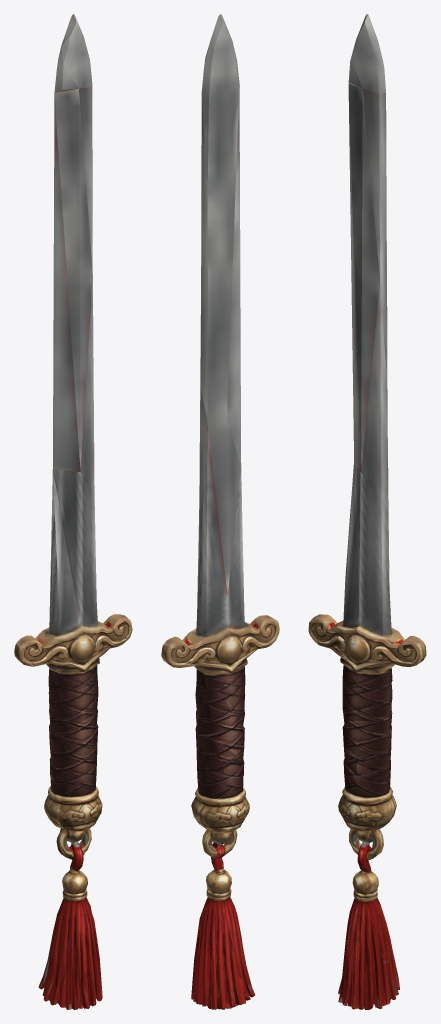
The model's file is sword_1.glb.
The picture shows the model from 3 angles, left to right: view 1: azimuth 30°, elevation 25°; view 2: azimuth 210°, elevation 25°; view 3: azimuth 330°, elevation 25°; orthographic projection.
Parts seen in each view (by area): view 1: output_unwrapped; view 2: output_unwrapped; view 3: output_unwrapped.
Part boxes in pixels (x1,y1,x2,y2): output_unwrapped: (14,14,132,1009); output_unwrapped: (161,14,279,1009); output_unwrapped: (308,14,426,1009).
Size of the model in its own units: 0.2301 by 1.9 by 0.1204.
1 material, 1 textured.
